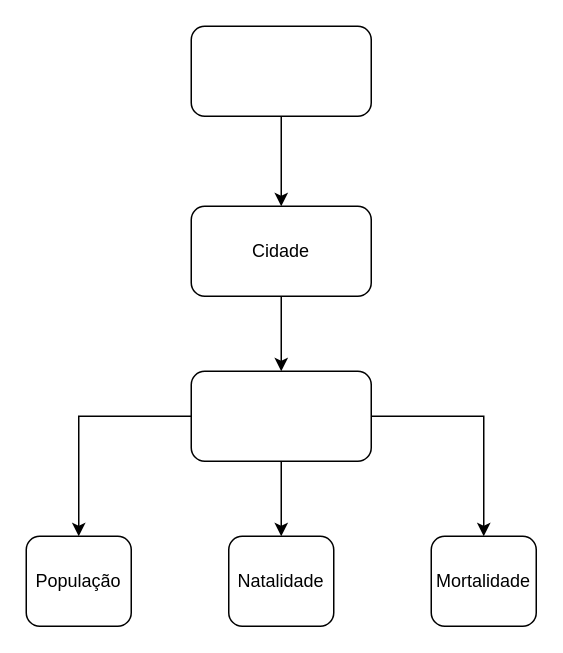
The diagram is 563 pixels wide and 653 high, and some of its shapes have lost their labels. Each missing label, with the centre of its shape:
"Ano" goes at (280,415).
"Estado" goes at (280,70).
